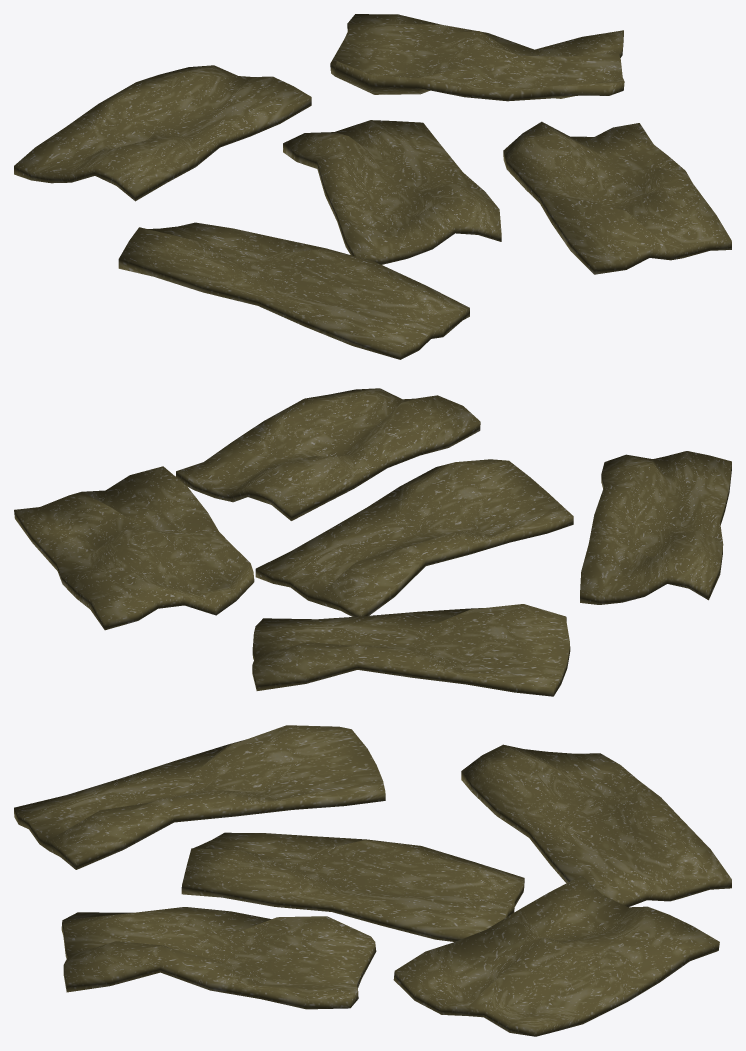
The model's file is yakiniku_01_p.glb.
3 views of the same model, one above another, from view 1: azimuth 30°, elevation 25°; view 2: azimuth 150°, elevation 25°; view 3: azimuth 270°, elevation 25° (orthographic). The views are drawn at different scales.
Visible parts, largest first — view 1: yakiniku; view 2: yakiniku; view 3: yakiniku.
Part boxes in pixels (x1,y1,x2,y2): yakiniku: [14, 14, 731, 359]; yakiniku: [14, 388, 731, 696]; yakiniku: [14, 725, 731, 1036].
Size of the model in its own units: 0.1823 by 0.0146 by 0.1811.
Materials: 1 (1 with a texture image).
